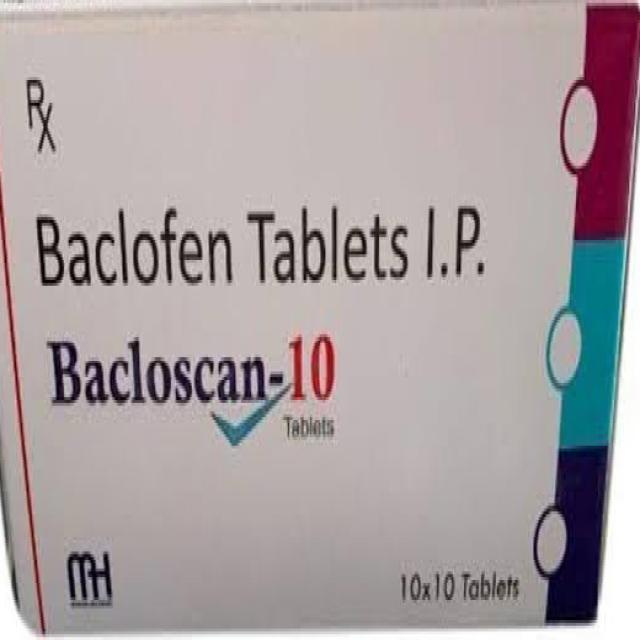drug-name: (44, 334, 340, 406)
